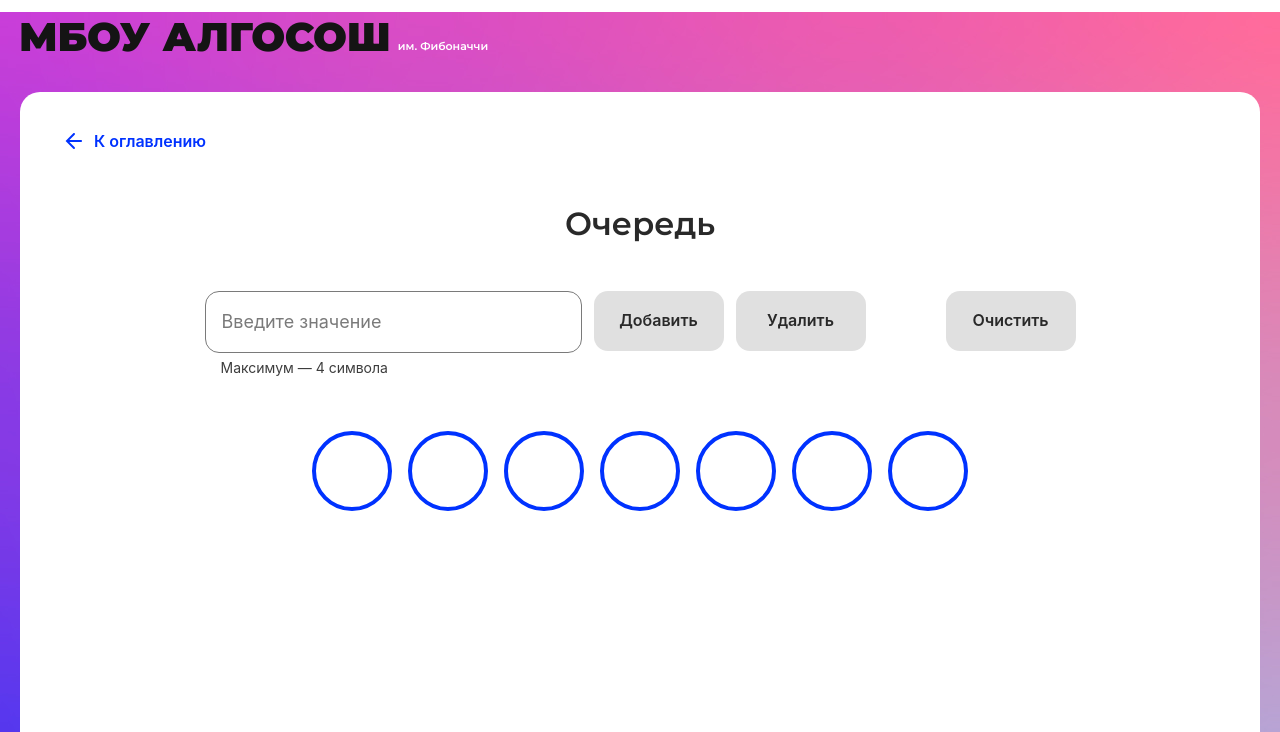
Test: queue page features works correctly › add one element to queue
The width and height of the screenshot is (1280, 732).
Type "7" into the field with placeholder "Введите значение".
click(394, 322); type("7")  # box [205,291,582,353]
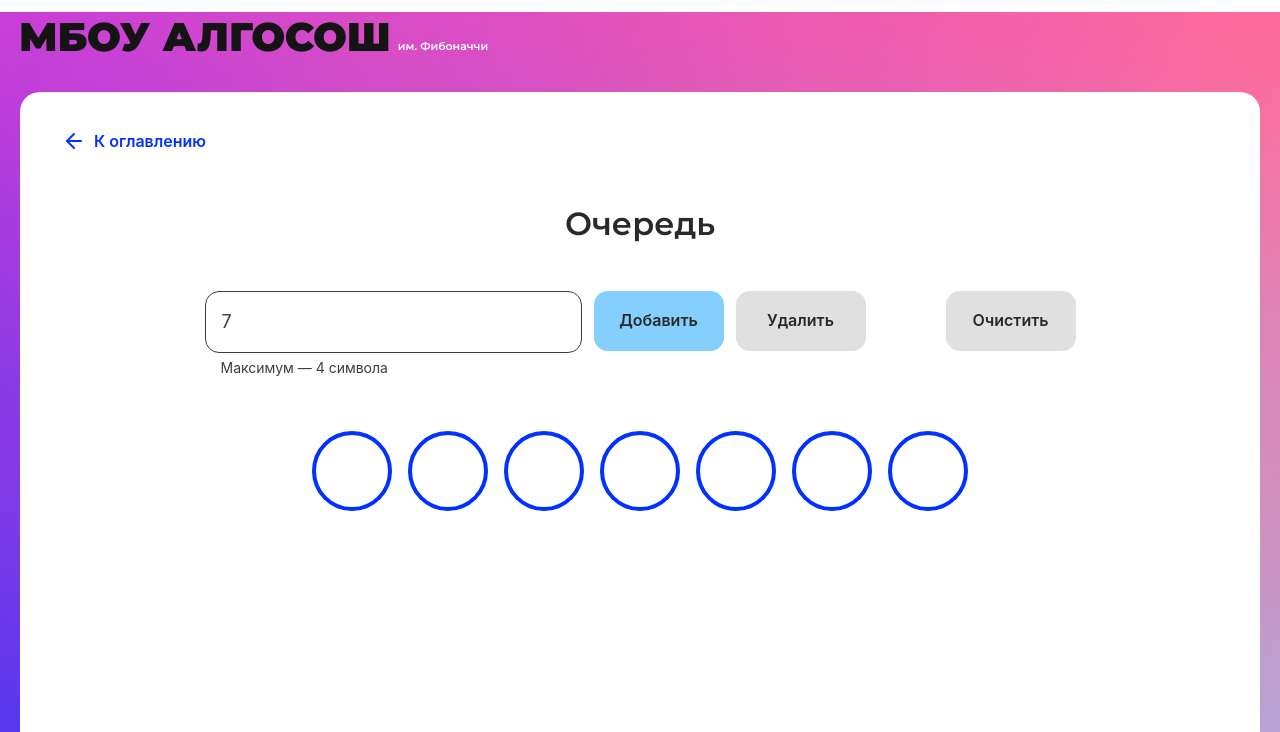
Expected: the element with test id "addButton" is enabled
Click the button with test id "addButton".
click(659, 321)  # box [594,291,724,351]
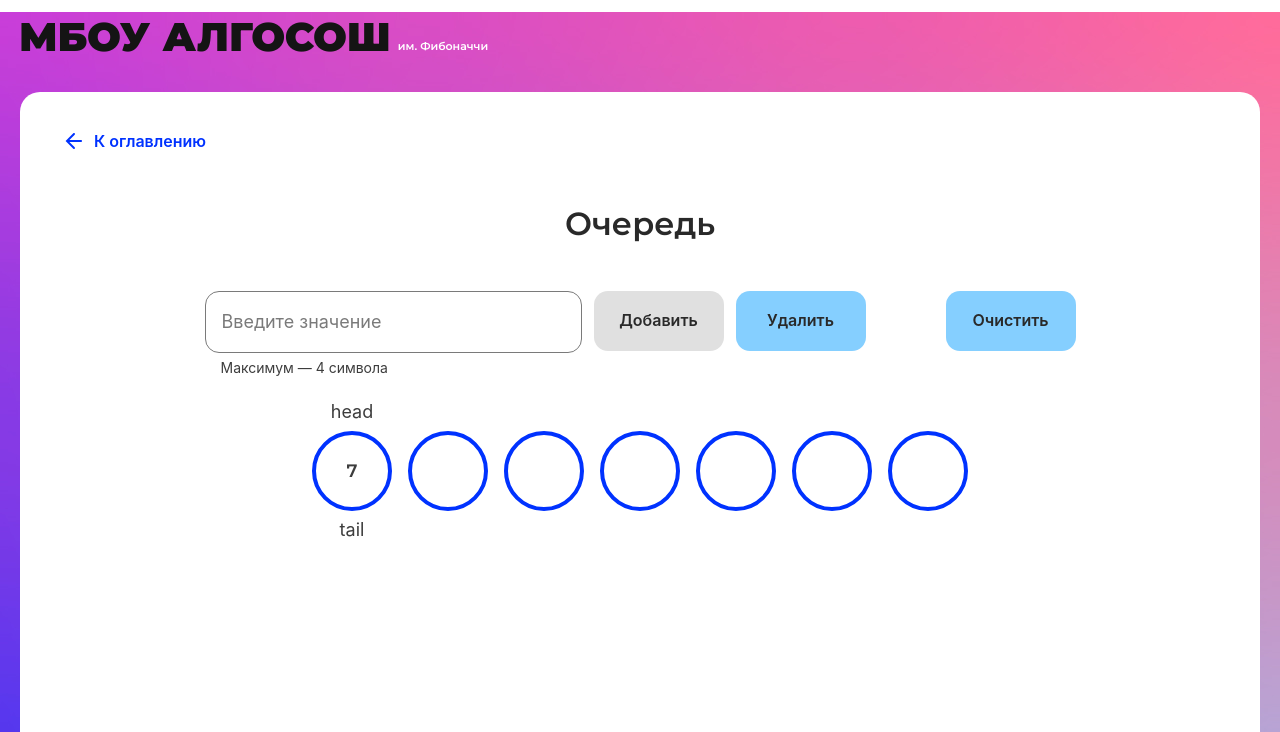
Expected: the button with test id "addButton" is disabled, [594,291,724,351]
Expected: the field with placeholder "Введите значение" is empty, [205,291,582,353]
Expected: the text "head" is shown, [331,401,373,423]
